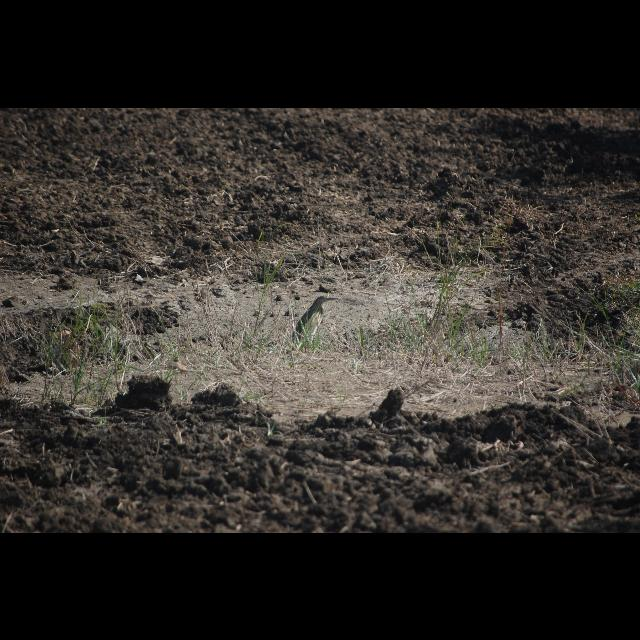heron: (284, 294, 336, 346)
